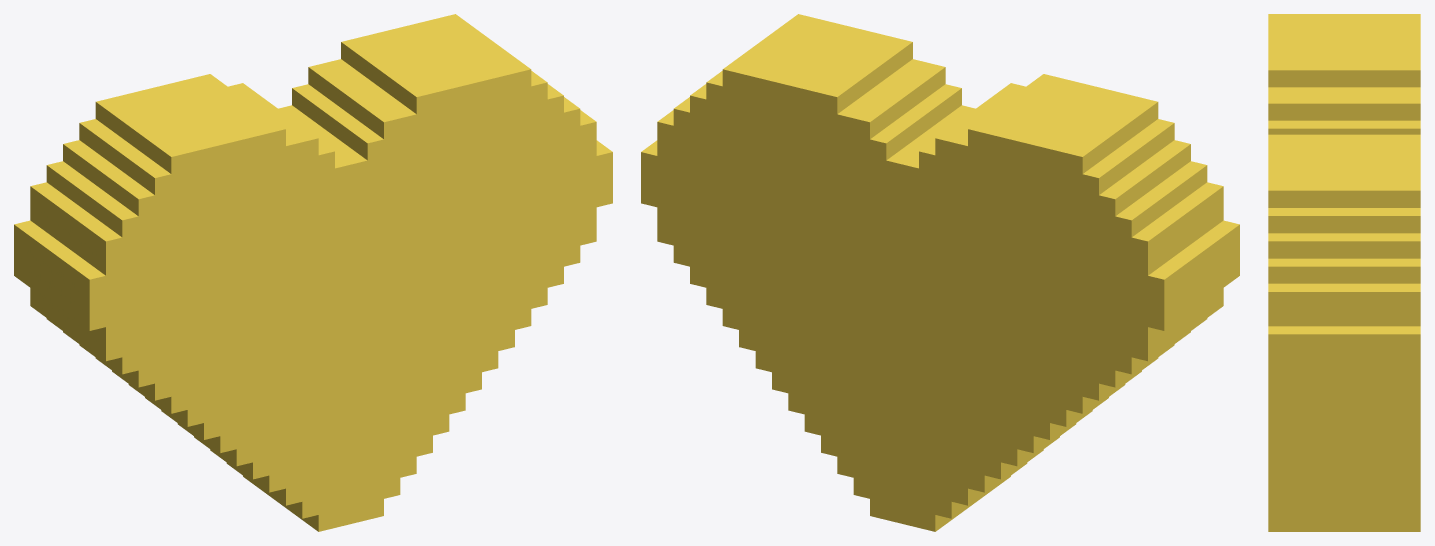
The model's file is Heart_fast.fbx.
The picture shows the model from 3 angles, left to right: view 1: azimuth 30°, elevation 25°; view 2: azimuth 150°, elevation 25°; view 3: azimuth 270°, elevation 25°; orthographic projection.
Parts seen in each view (by area): view 1: generated; view 2: generated; view 3: generated.
Boxes of the visible parts, box(x1,y1,x2,y2) form: generated: box(14, 14, 612, 531); generated: box(641, 14, 1239, 531); generated: box(1268, 14, 1420, 531).
Bounding box in the file's own units: 320 × 240 × 80.
